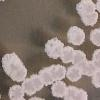white: (41, 36, 64, 60), (0, 50, 22, 72), (6, 61, 28, 83), (65, 25, 87, 47), (77, 11, 100, 28), (37, 66, 56, 86), (77, 60, 97, 78), (51, 79, 67, 100), (75, 0, 97, 15), (64, 66, 83, 83), (62, 83, 80, 100), (29, 73, 45, 92), (71, 49, 88, 65), (7, 84, 25, 99), (21, 78, 36, 96), (55, 63, 69, 82), (89, 47, 100, 71), (60, 46, 74, 64), (88, 28, 100, 49), (48, 63, 61, 81), (75, 87, 92, 100), (90, 68, 100, 89), (26, 94, 46, 100), (6, 95, 26, 100), (95, 0, 100, 13), (0, 91, 3, 99)
